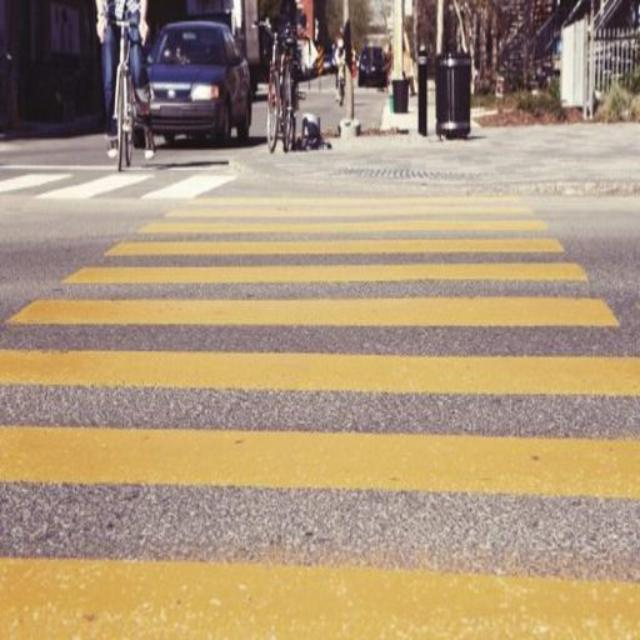sidewalk: (1, 195, 639, 640)
